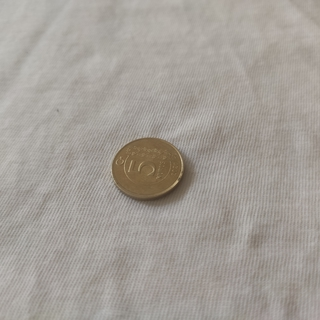5KURUS: (110, 135, 185, 201)
